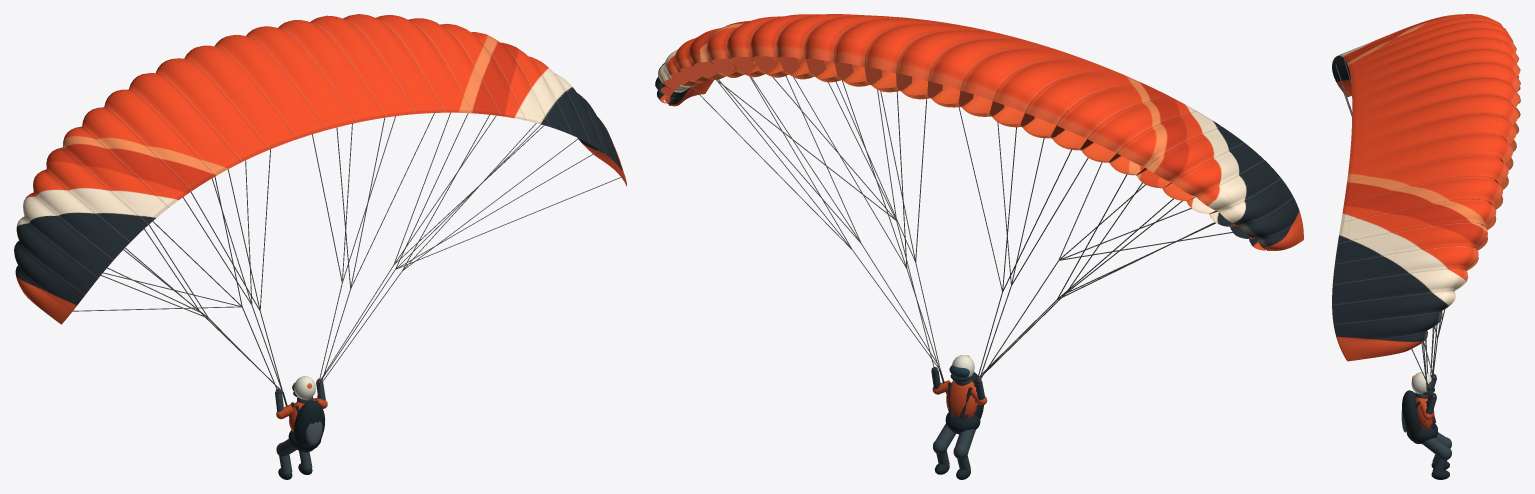
File: Speedwing.glb
3 views of the same model, side by side, from view 1: azimuth 30°, elevation 25°; view 2: azimuth 150°, elevation 25°; view 3: azimuth 270°, elevation 25° (orthographic). The views are drawn at different scales.
Parts seen in each view (by area): view 1: Speedwing; view 2: Speedwing; view 3: Speedwing.
Part boxes in pixels (<box>): Speedwing: <box>14,14,626,479</box>; Speedwing: <box>655,14,1303,479</box>; Speedwing: <box>1332,14,1520,479</box>.
Size of the model in its own units: 9.37 by 6.51 by 2.72.
14 materials, 2 textured.
